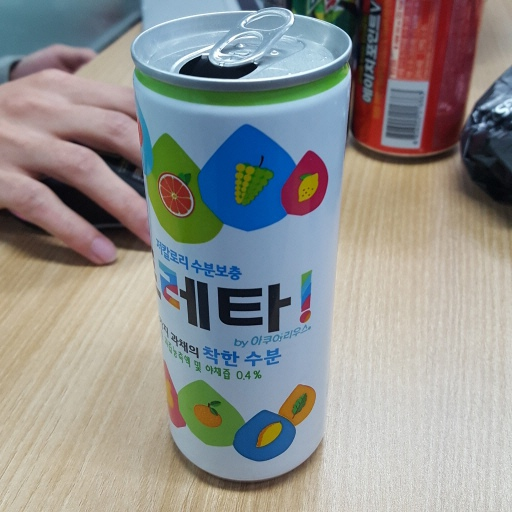Metal_0: (133, 10, 353, 490)
